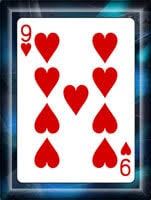nine of hearts: (16, 17, 137, 182)
